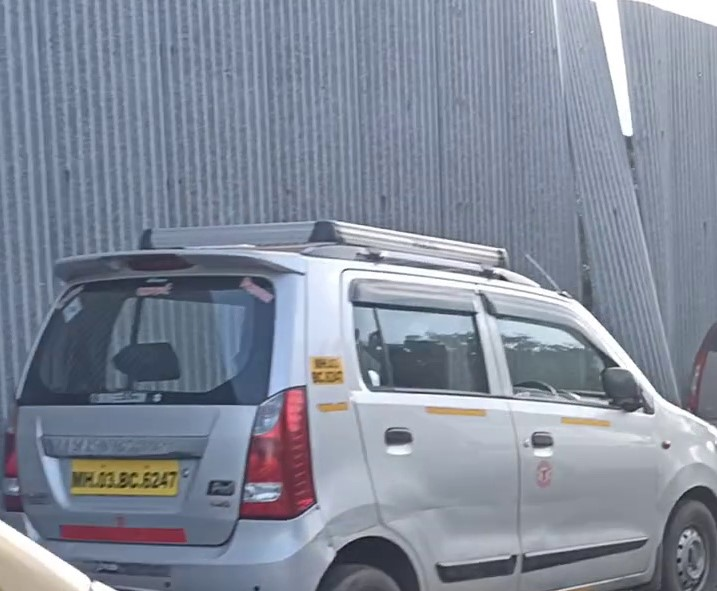MH038C6247: (69, 455, 181, 498)
